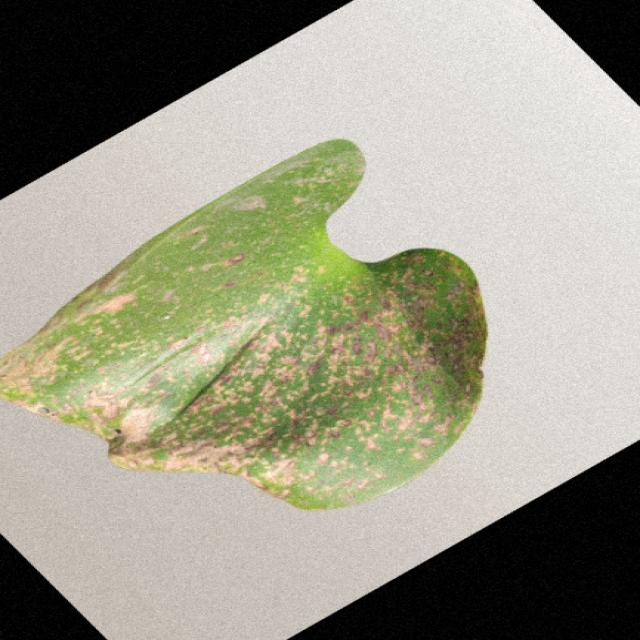daun berpenyakit bercak: (2, 140, 486, 510)
